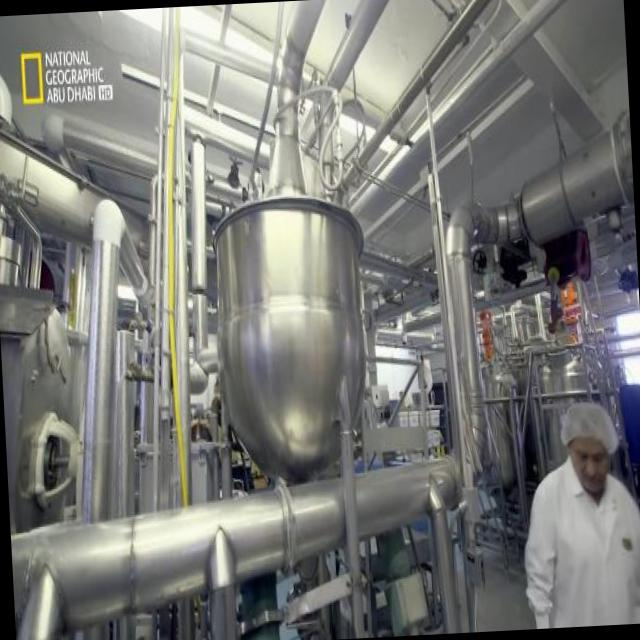hairnet: (556, 397, 622, 454)
